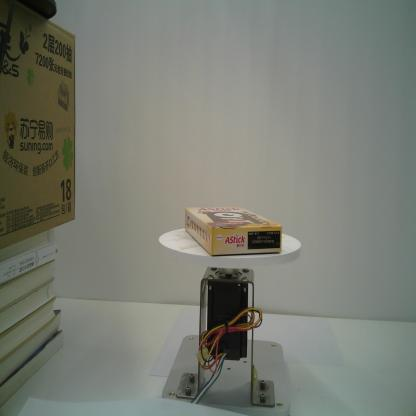Dessert: (184, 206, 282, 256)
